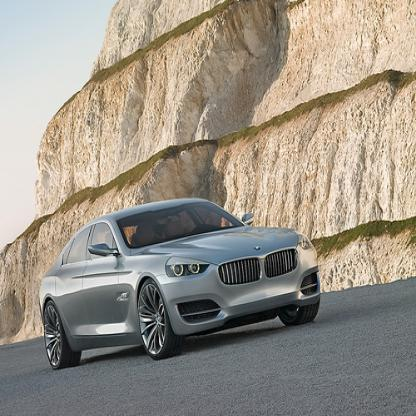car: (38, 196, 321, 370)
